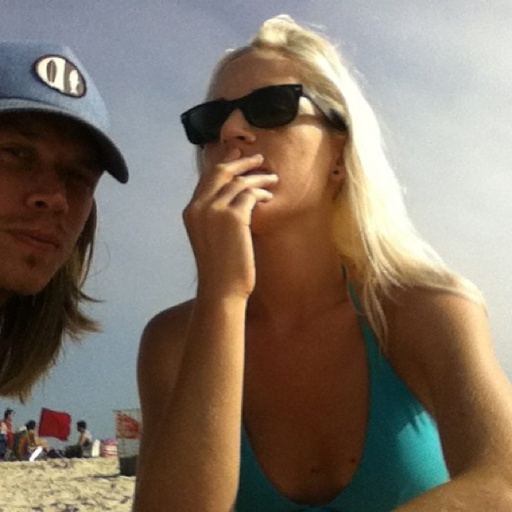hand: (120, 147, 266, 502)
